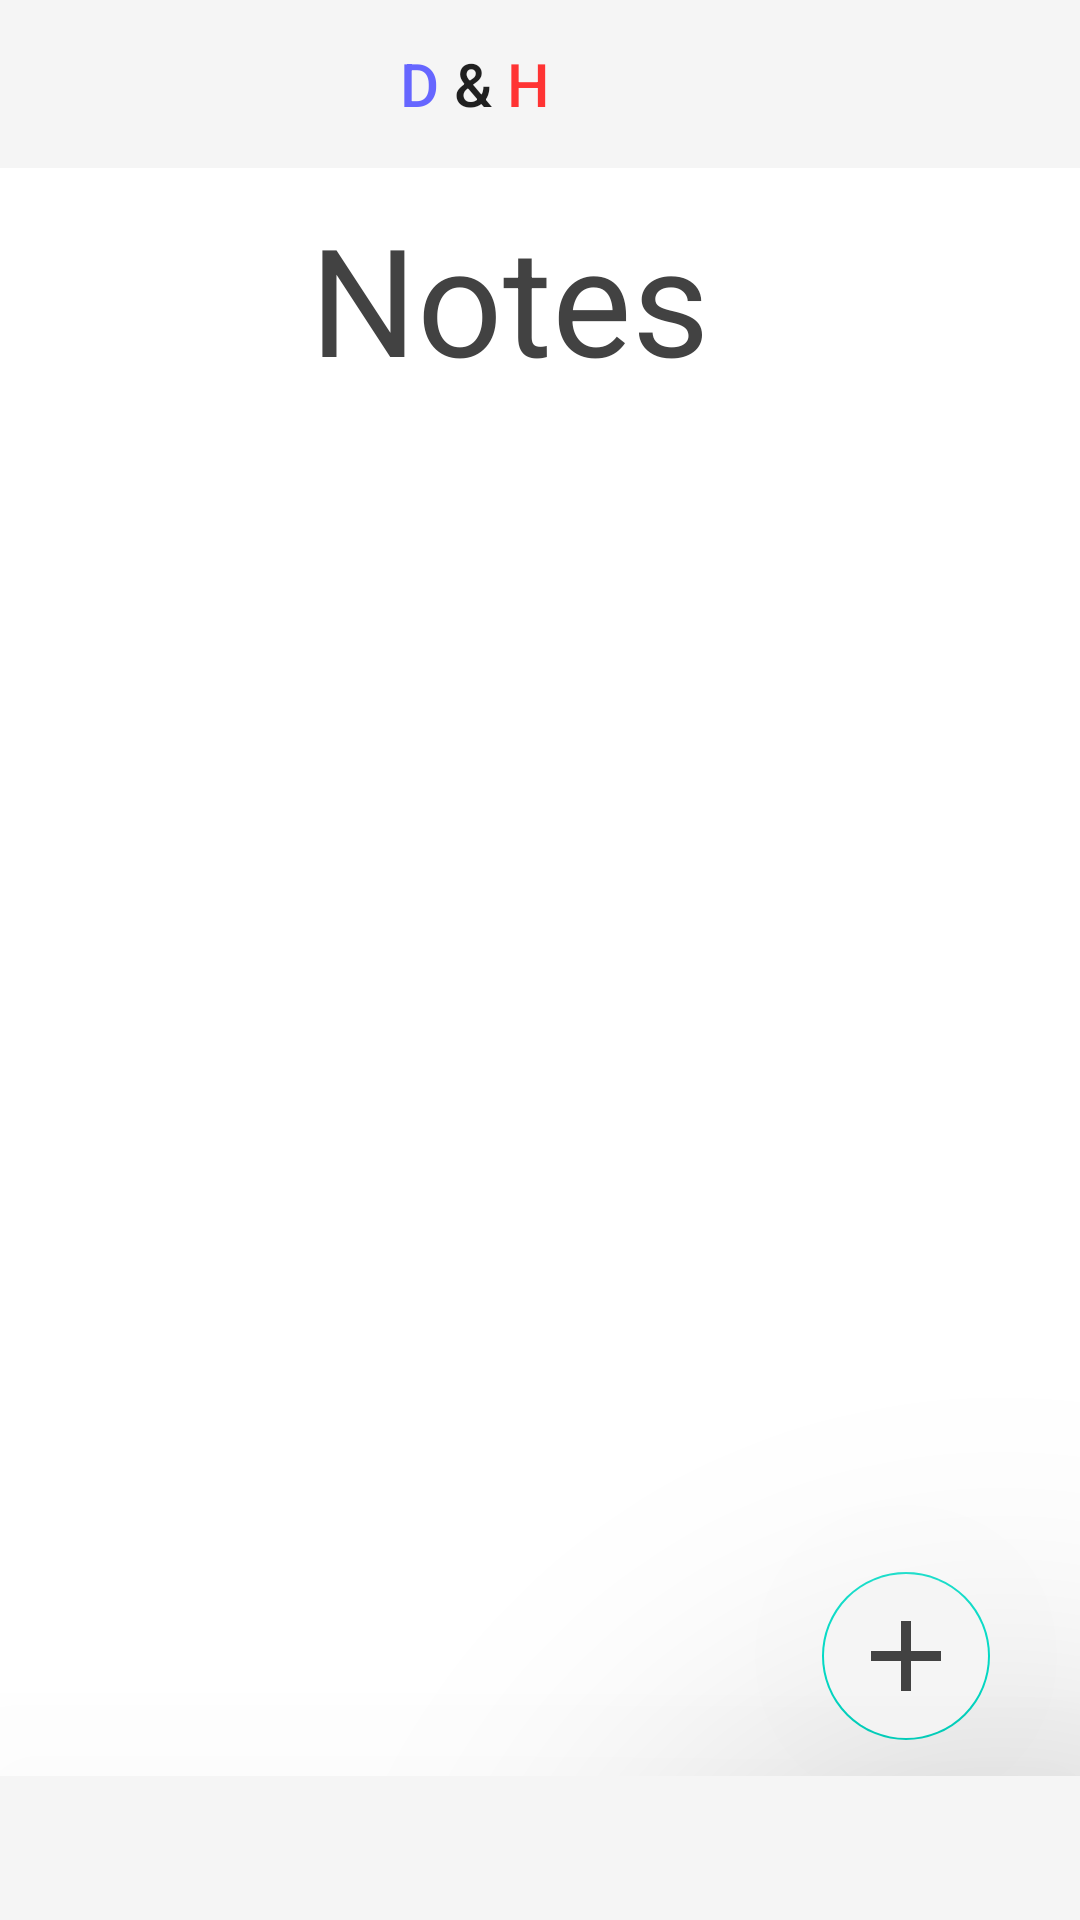

Where to tap for icons on this 1080w x 1920h app screen, as (x=x, y=y):
add: (x=906, y=1656)
